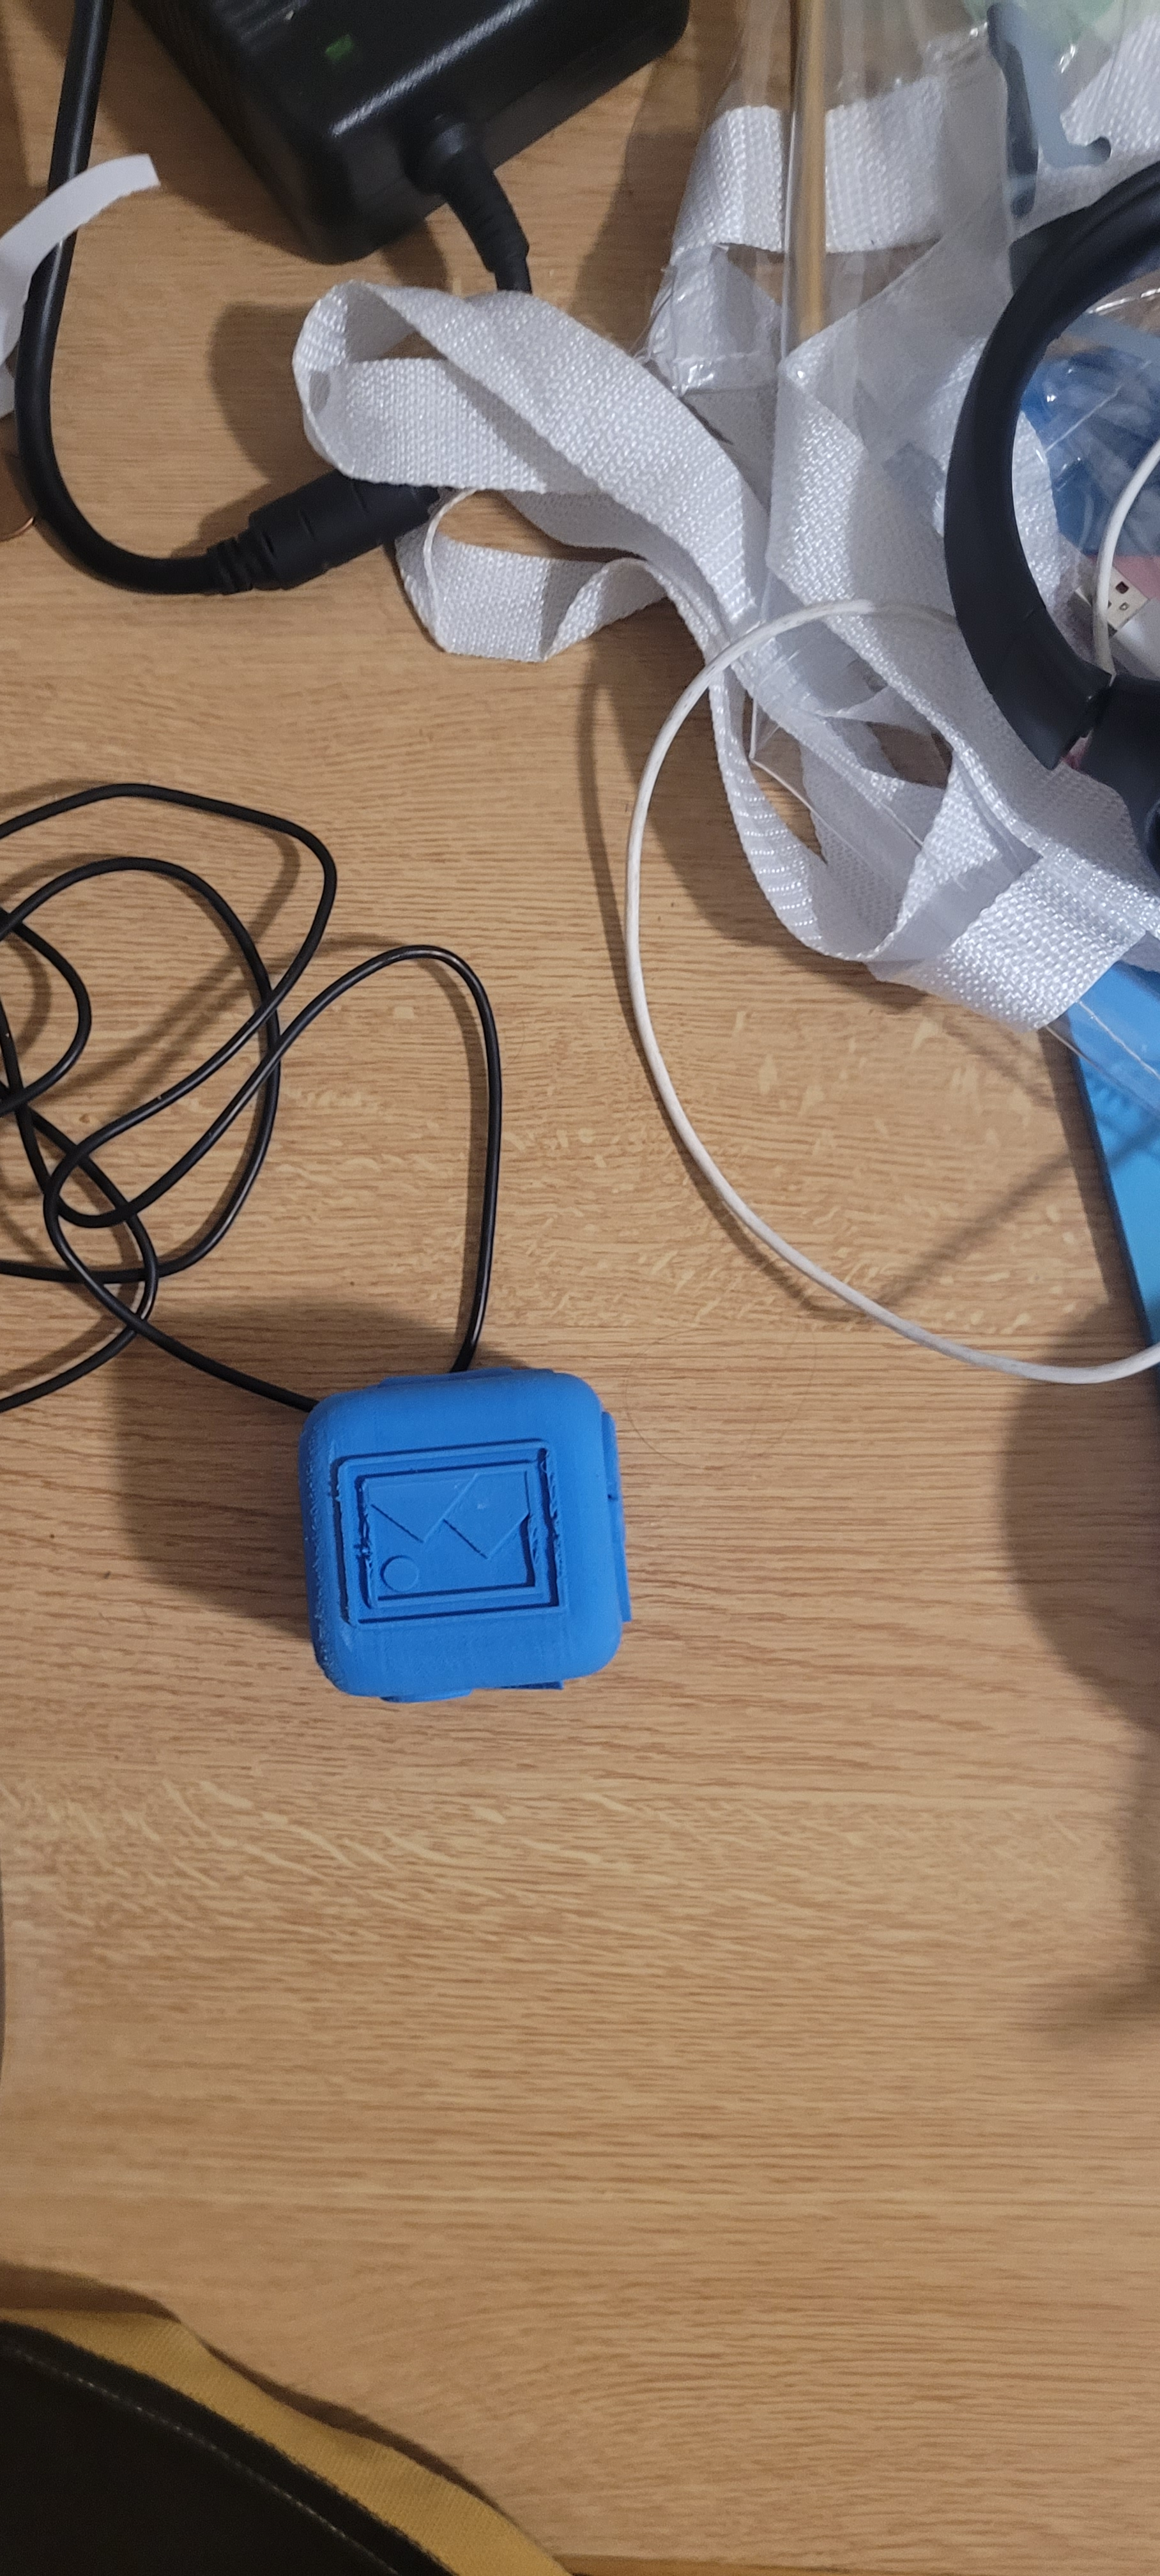Story: (320, 1433, 582, 1643)
